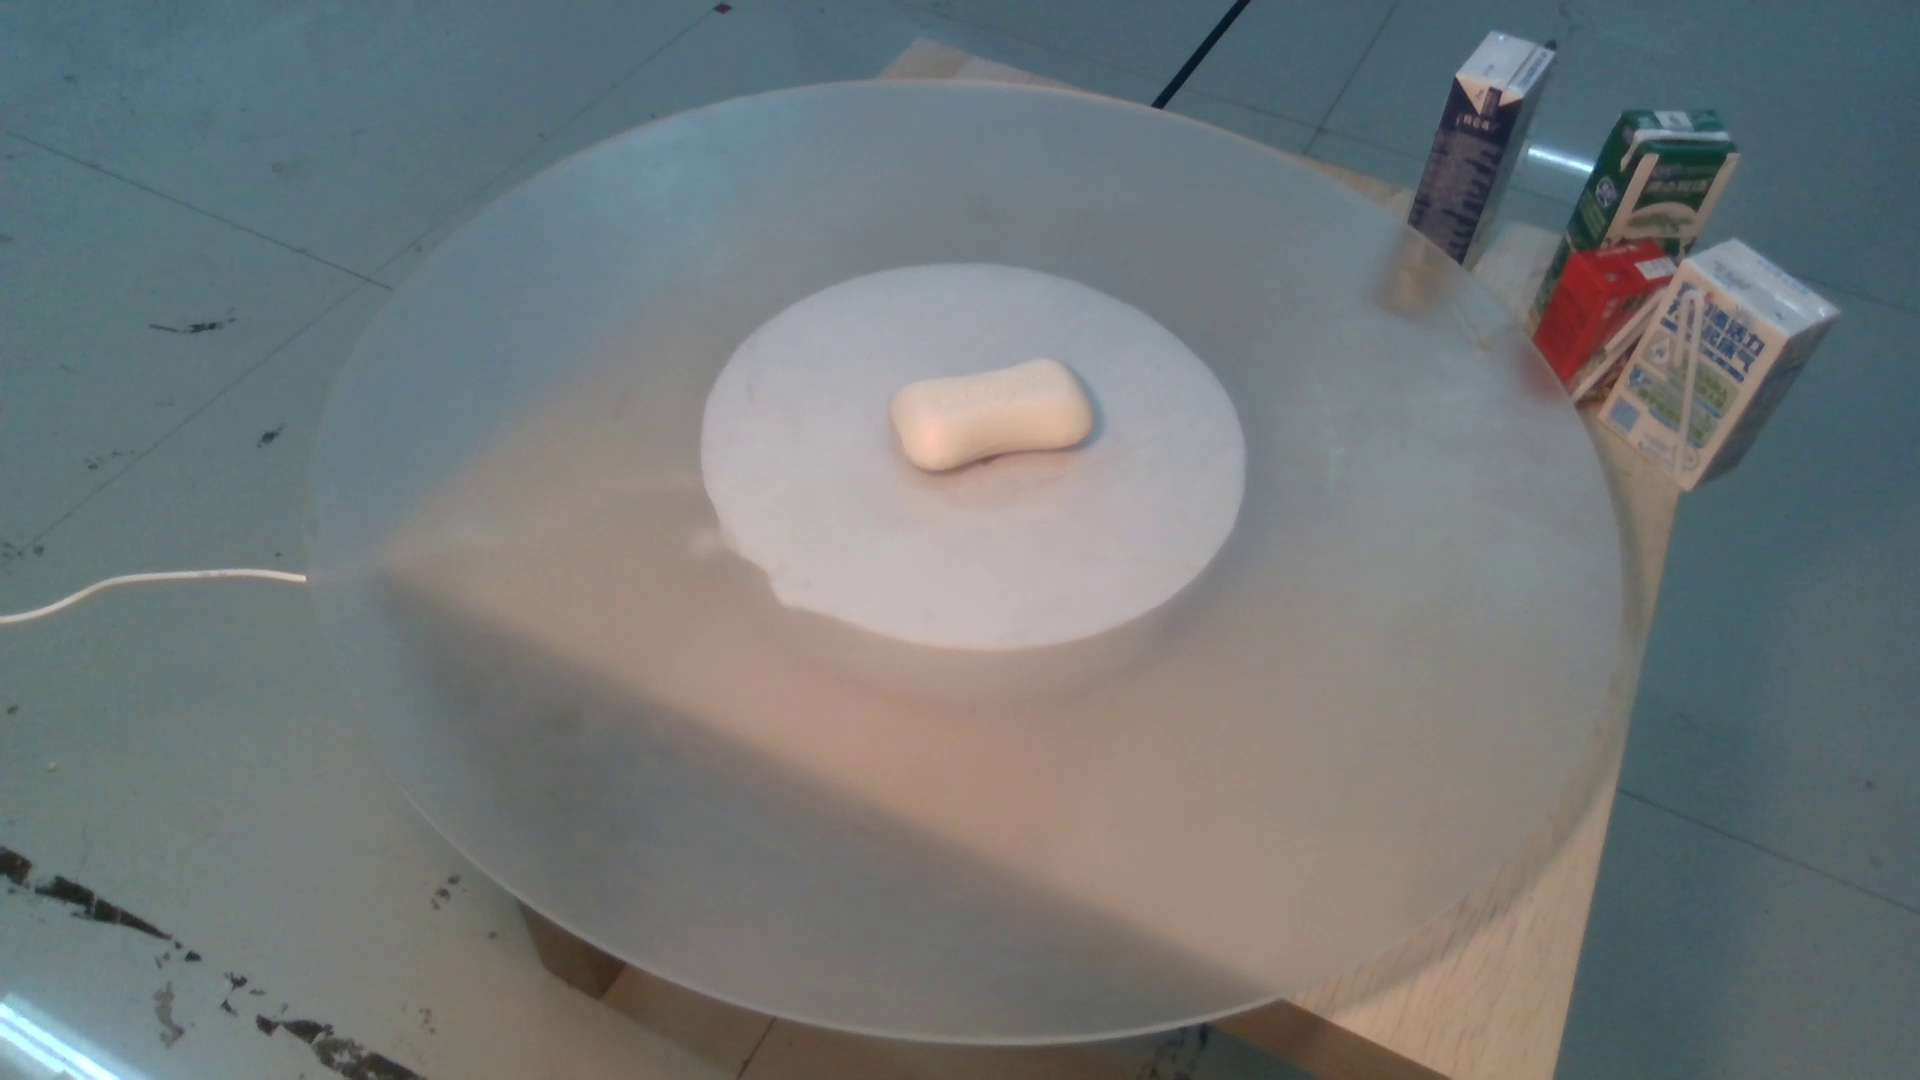CA003_1: (878, 349, 1093, 476)
